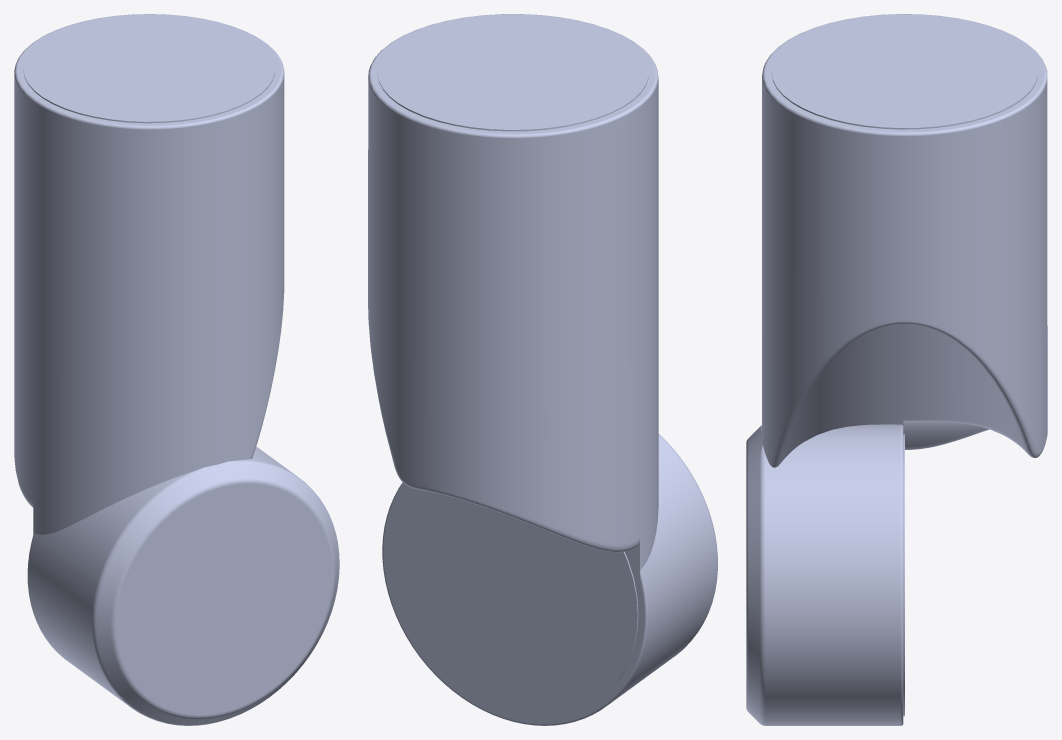
Rendered from Link_Arm_3.obj.
3 renders of one model, left to right at view 1: azimuth 30°, elevation 25°; view 2: azimuth 150°, elevation 25°; view 3: azimuth 270°, elevation 25°, orthographic. The views are drawn at different scales.
Parts seen in each view (by area): view 1: Body1; view 2: Body1; view 3: Body1.
Part boxes in pixels (box(x1,y1,x2,y2)): Body1: box(14, 14, 339, 725); Body1: box(368, 14, 717, 725); Body1: box(746, 14, 1047, 725).
Bounding box in the file's own units: 9.5 × 22.25 × 9.5.
